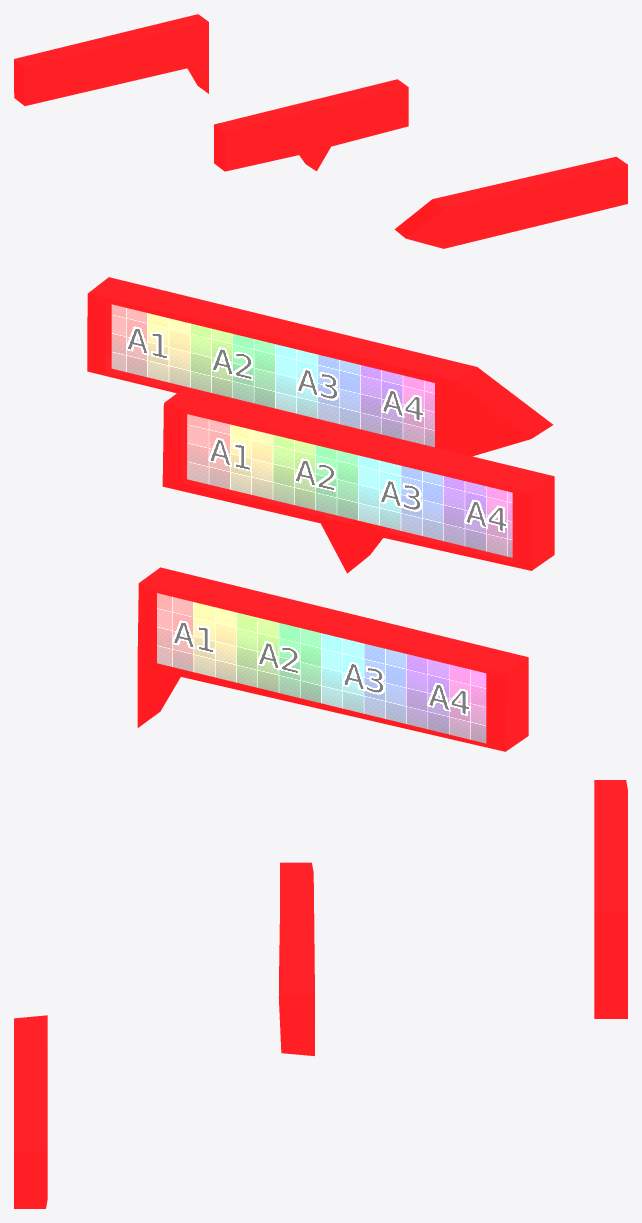
The model's file is hps5.glb.
The picture shows the model from 3 angles, top to bottom: view 1: azimuth 30°, elevation 25°; view 2: azimuth 150°, elevation 25°; view 3: azimuth 270°, elevation 25°; orthographic projection. The views are drawn at different scales.
Parts seen in each view (by area): view 1: cote_content, haut_content, dessus_content; view 2: dessus_content, haut_content, cote_content; view 3: haut_content, dessus_content, cote_content.
Boxes of the visible parts, <box> form: cote_content: <box>394,156,627,248</box>; haut_content: <box>14,14,208,105</box>; dessus_content: <box>214,79,408,171</box>; dessus_content: <box>162,387,554,573</box>; haut_content: <box>137,567,528,751</box>; cote_content: <box>87,277,553,456</box>; haut_content: <box>594,780,627,1018</box>; dessus_content: <box>278,862,314,1056</box>; cote_content: <box>14,1015,47,1208</box>.
Bounding box in the file's own units: 4.41 × 0.9576 × 3.91.
